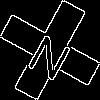N: (25, 25, 78, 83)
